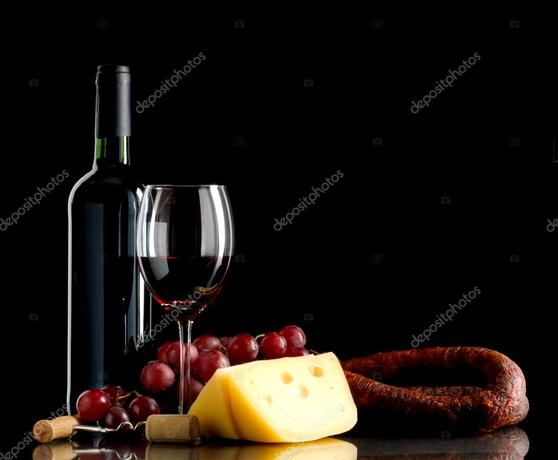cheese: (192, 351, 362, 447)
